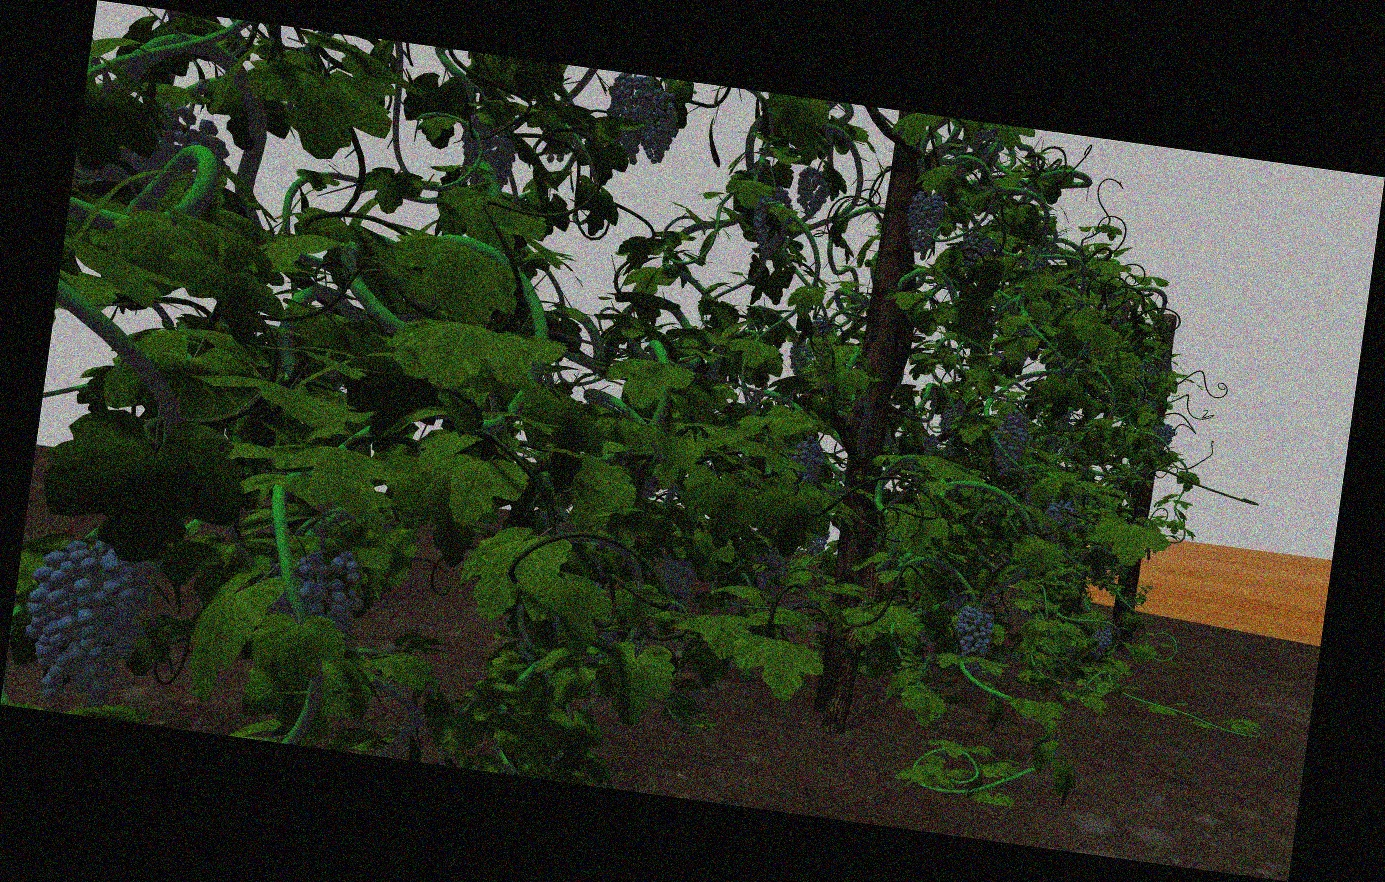grape: (23, 539, 148, 708), (292, 548, 367, 635), (459, 115, 518, 190), (607, 76, 649, 163), (641, 89, 680, 163), (752, 188, 791, 256), (905, 190, 943, 259), (993, 408, 1029, 476), (951, 605, 995, 658), (656, 557, 698, 604), (790, 434, 826, 486), (751, 547, 782, 590), (962, 231, 994, 268), (1045, 499, 1075, 532), (1087, 627, 1115, 660), (1151, 423, 1177, 447)
